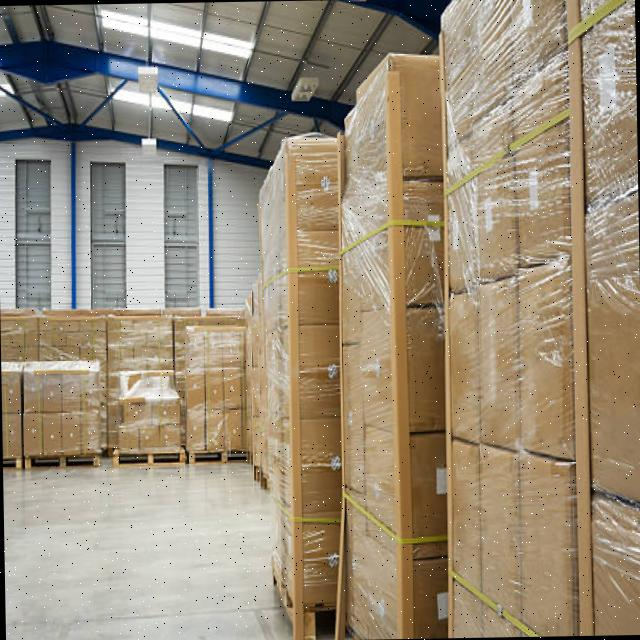Wooden-Pallets: (20, 446, 101, 476), (188, 441, 254, 469), (115, 444, 188, 468)
